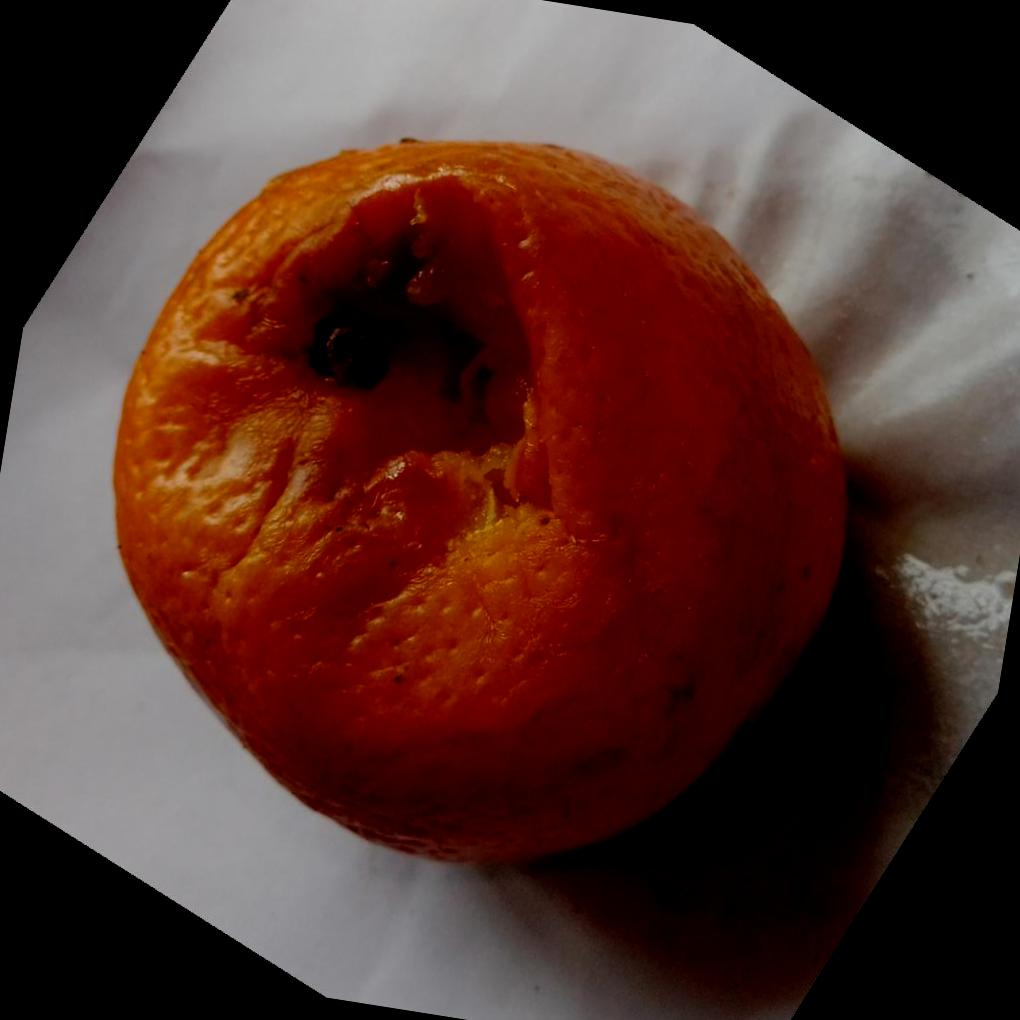FreshOrange: (113, 137, 852, 867)
